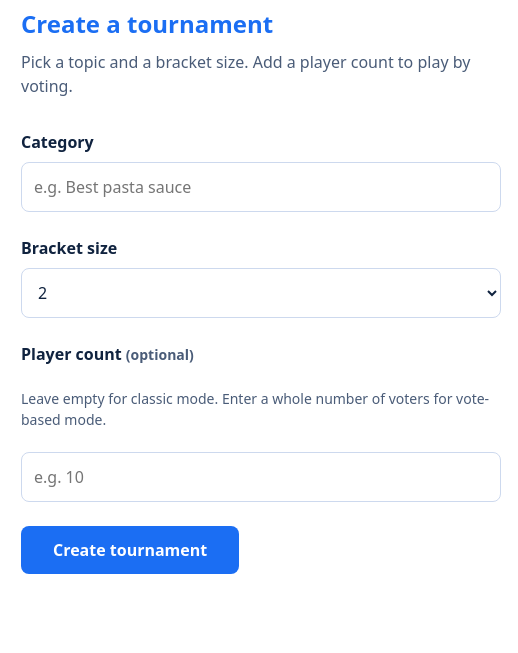
Test case: CreateScreen category validation › blocks creation with a required message when the category is empty
Click the button "Create tournament" at (130, 550), box [21,526,239,574]
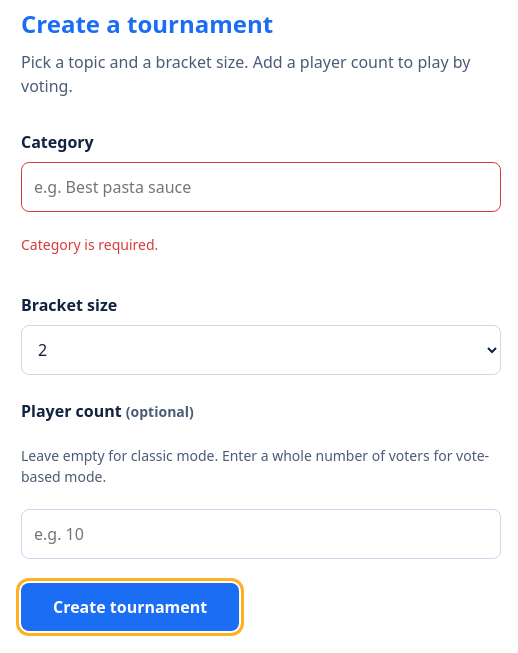
Check: the message shows "Category is required", box [21,235,158,254]
